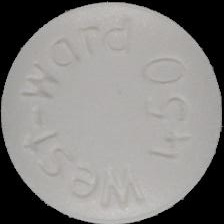0143-1450: (0, 0, 224, 224)
